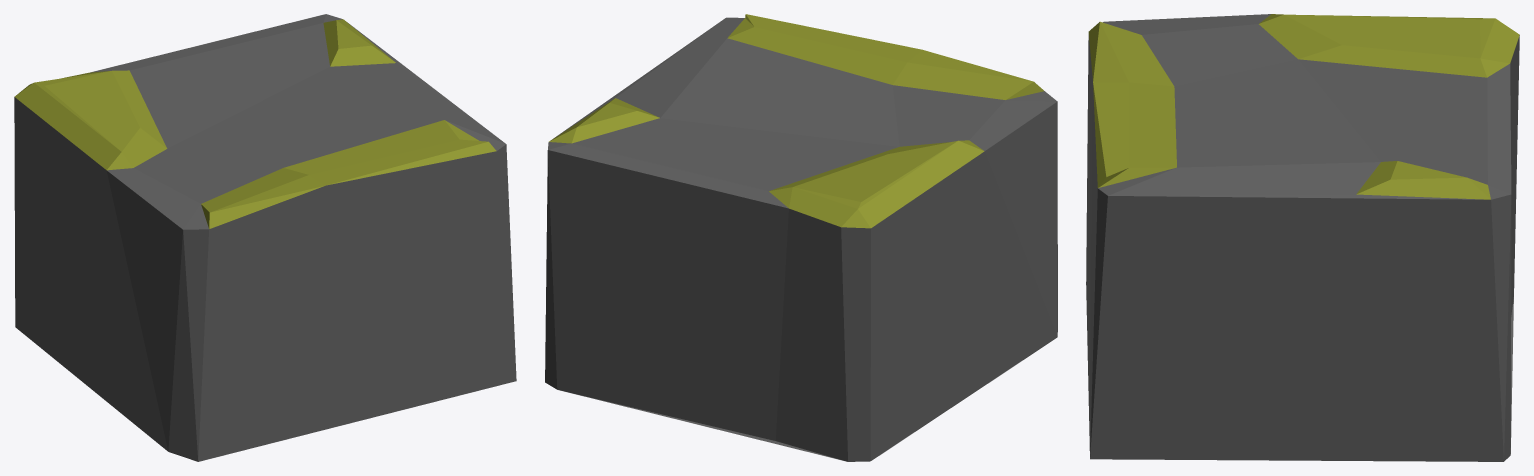
The model's file is tile_squared_moss_type_1_LOD2.fbx.
3 renders of one model, left to right at view 1: azimuth 30°, elevation 25°; view 2: azimuth 150°, elevation 25°; view 3: azimuth 270°, elevation 25°, orthographic. The views are drawn at different scales.
Visible parts, largest first — view 1: tile_squared_moss_type_1; view 2: tile_squared_moss_type_1; view 3: tile_squared_moss_type_1.
Boxes of the visible parts, box(x1,y1,x2,y2) form: tile_squared_moss_type_1: box(14, 14, 516, 461); tile_squared_moss_type_1: box(545, 14, 1057, 461); tile_squared_moss_type_1: box(1086, 14, 1519, 461).
Size of the model in its own units: 119 by 82.98 by 117.
